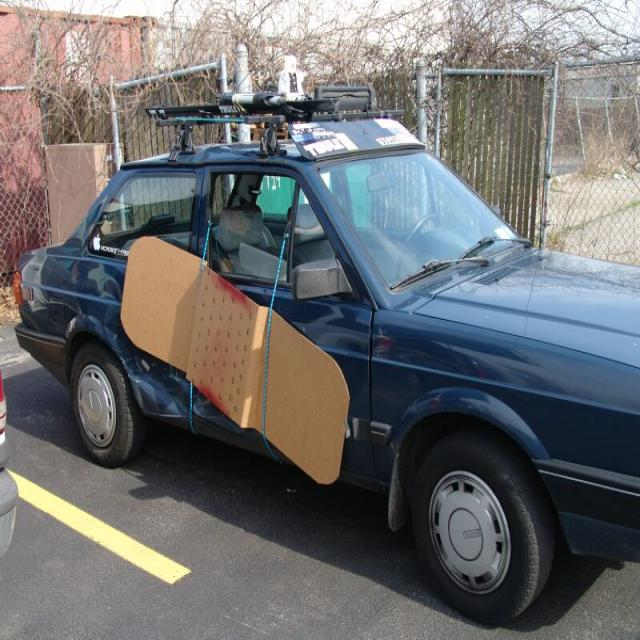dent: (114, 330, 262, 437), (64, 201, 105, 252), (189, 142, 261, 163)
scratch: (128, 372, 141, 382), (120, 357, 129, 369)
